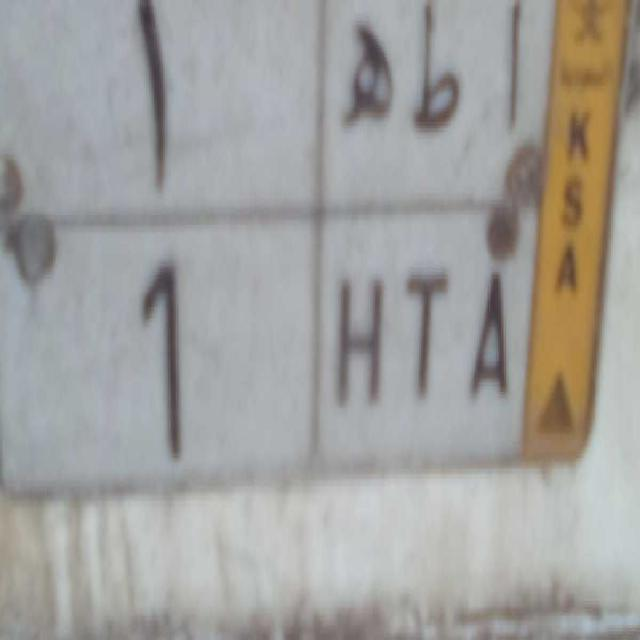license_plate: (0, 205, 531, 482)
